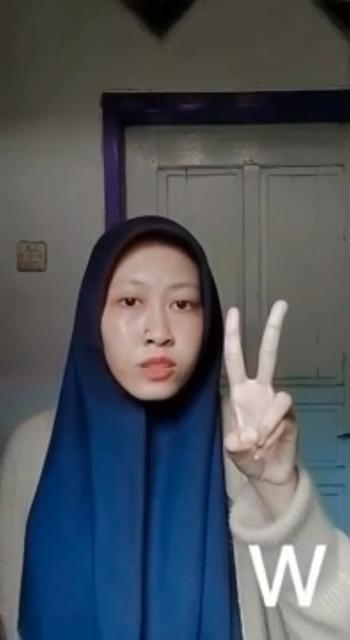V: (216, 296, 318, 488)
